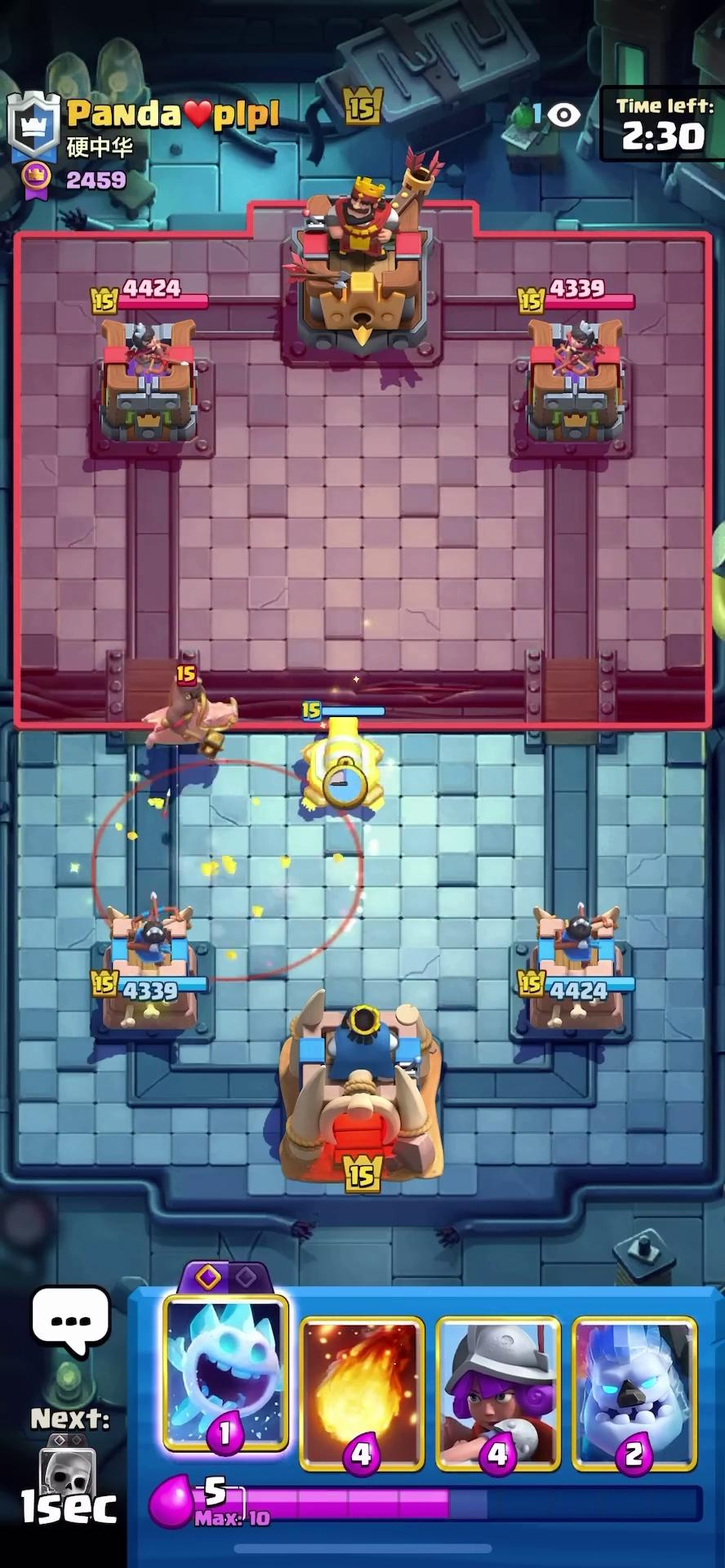cannon: (286, 706, 394, 806)
